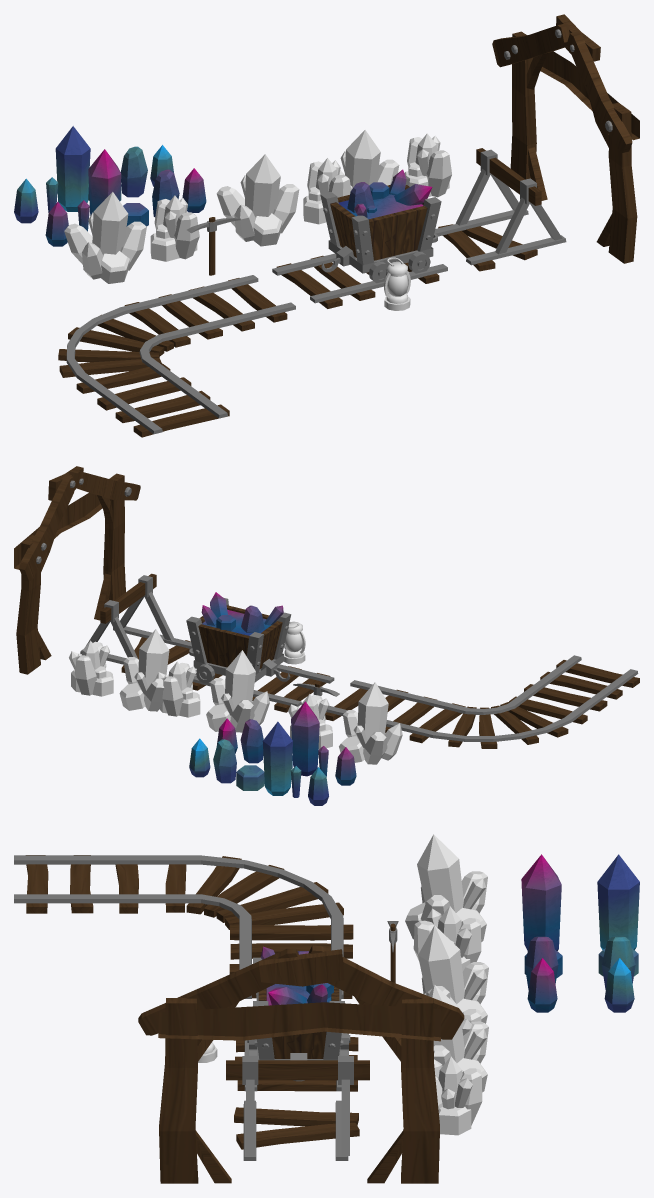
The model's file is mine.fbx.
3 renders of one model, top to bottom at view 1: azimuth 30°, elevation 25°; view 2: azimuth 150°, elevation 25°; view 3: azimuth 270°, elevation 25°, orthographic. The views are drawn at different scales.
Parts seen in each view (by area): view 1: rail_curve, mine_entrance, minecart, rail_end, cristalFormation_1.005, cristalFormation_1.003, rail, cristalFormation_2.005, cristal_3.001, cristalFormation_2.004, cristalFormation_1.004, cristalFormation_2.003 (+8 smaller); view 2: rail_curve, mine_entrance, minecart, rail_end, cristalFormation_1.005, cristalFormation_1.003, cristalFormation_1.004, cristalFormation_2.004, cristal_3.001, rail, cristalFormation_2.003, cristal_3.003 (+9 smaller); view 3: mine_entrance, rail_curve, rail_end, cristalFormation_1.005, cristalFormation_1.003, minecart, cristal_3.001, cristalFormation_2.004, cristal_3.003, cristalFormation_1.004, cristalFormation_2.005, rail (+5 smaller).
Boxes of the visible parts, bbox=[...] form: rail_curve: bbox=[58, 275, 295, 437]; mine_entrance: bbox=[492, 14, 639, 263]; minecart: bbox=[320, 175, 441, 283]; rail_end: bbox=[434, 148, 566, 271]; cristalFormation_1.005: bbox=[64, 192, 146, 283]; cristalFormation_1.003: bbox=[216, 154, 299, 246]; rail: bbox=[272, 253, 447, 308]; cristalFormation_2.005: bbox=[150, 195, 199, 261]; cristal_3.001: bbox=[55, 126, 90, 211]; cristalFormation_2.004: bbox=[404, 133, 451, 197]; cristalFormation_1.004: bbox=[322, 130, 399, 189]; cristalFormation_2.003: bbox=[303, 158, 351, 224]; rail_curve: bbox=[325, 655, 639, 748]; mine_entrance: bbox=[14, 466, 140, 674]; minecart: bbox=[186, 597, 291, 683]; rail_end: bbox=[80, 573, 192, 672]; cristalFormation_1.005: bbox=[339, 682, 402, 764]; cristalFormation_1.003: bbox=[206, 650, 269, 732]; cristalFormation_1.004: bbox=[119, 629, 169, 711]; cristalFormation_2.004: bbox=[69, 640, 113, 696]; cristal_3.001: bbox=[262, 721, 292, 795]; rail: bbox=[192, 664, 334, 712]; cristalFormation_2.003: bbox=[155, 661, 200, 717]; cristal_3.003: bbox=[291, 701, 319, 776]; mine_entrance: bbox=[138, 945, 464, 1183]; rail_curve: bbox=[14, 855, 353, 998]; rail_end: bbox=[226, 1056, 369, 1160]; cristalFormation_1.005: bbox=[405, 834, 487, 941]; cristalFormation_1.003: bbox=[418, 925, 488, 1023]; minecart: bbox=[247, 957, 350, 1081]; cristal_3.001: bbox=[597, 854, 639, 949]; cristalFormation_2.004: bbox=[434, 1056, 482, 1135]; cristal_3.003: bbox=[521, 854, 561, 950]; cristalFormation_1.004: bbox=[428, 984, 488, 1092]; cristalFormation_2.005: bbox=[413, 906, 481, 971]; rail: bbox=[235, 1037, 358, 1091].
Size of the model in its own units: 1100 by 369 by 883.
